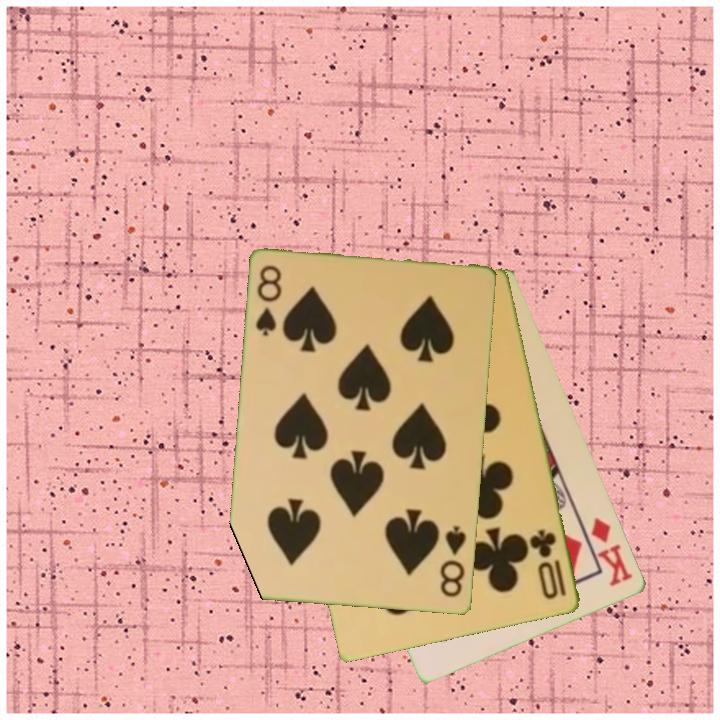10c: (528, 526, 570, 603)
8s: (437, 522, 470, 601), (253, 262, 285, 340)
Kd: (588, 513, 637, 590)
